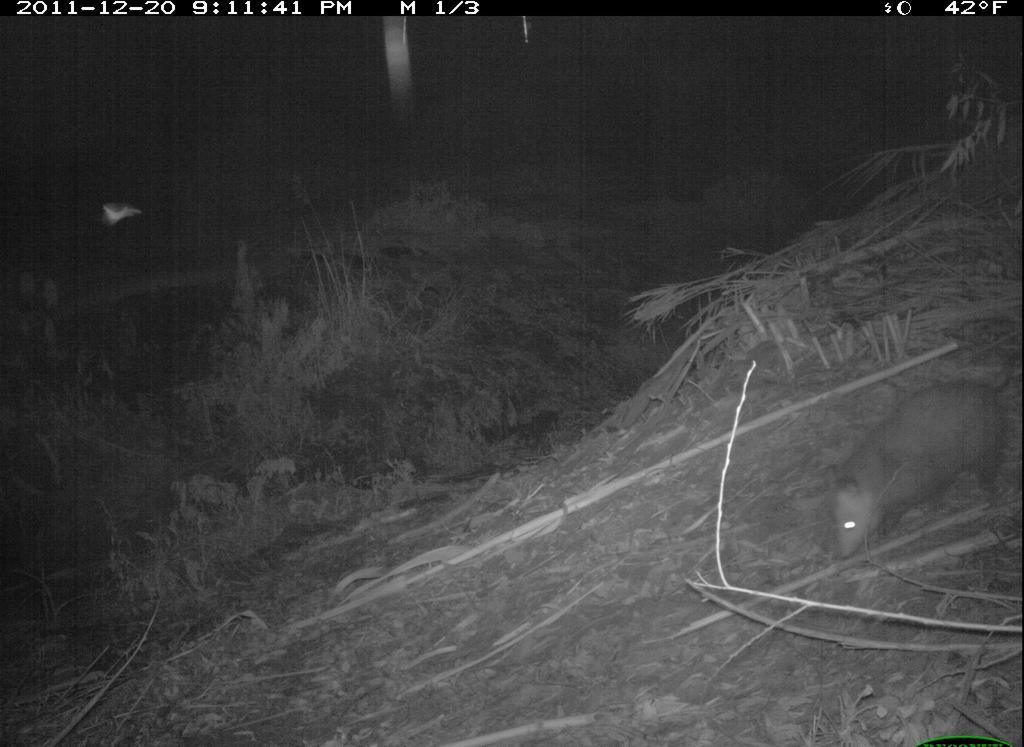opossum: (816, 365, 1023, 571)
